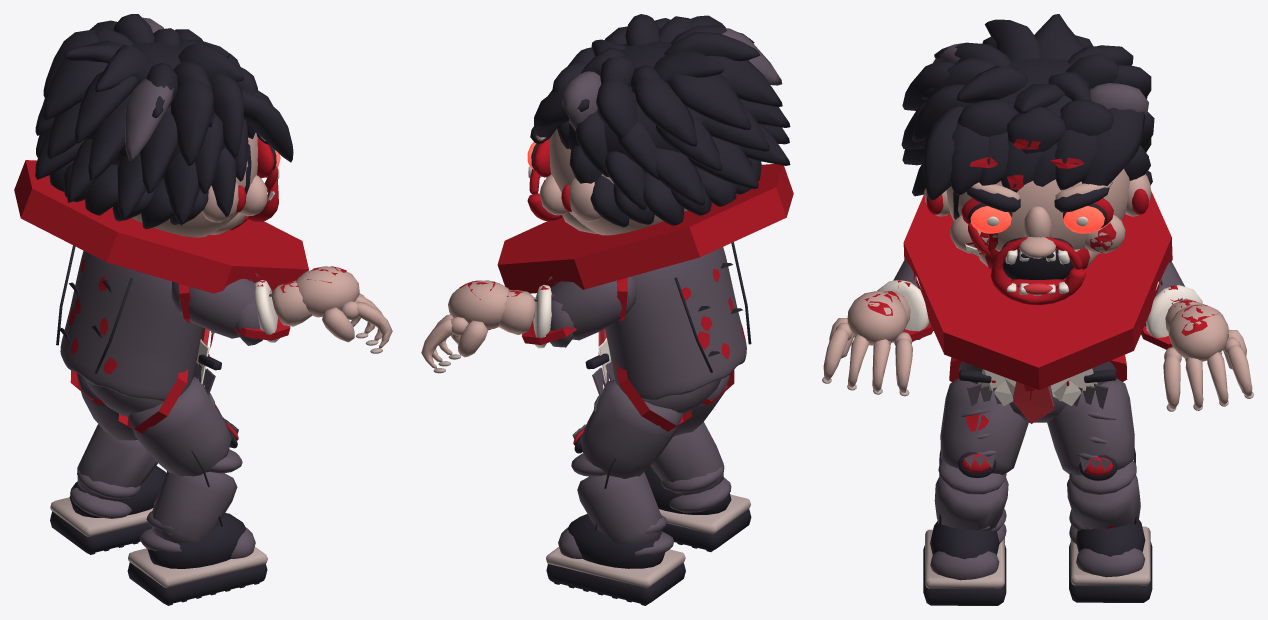
File: inf.common-worker.glb
3 renders of one model, left to right at view 1: azimuth 30°, elevation 25°; view 2: azimuth 150°, elevation 25°; view 3: azimuth 270°, elevation 25°, orthographic. The views are drawn at different scales.
Parts seen in each view (by area): view 1: head, torso, stump_head, footR, legR, shinR, shinL, handR, footL, armR, foreArmR, legL (+3 smaller); view 2: head, torso, stump_head, footL, legL, shinL, shinR, handL, footR, armL, foreArmL, hip (+3 smaller); view 3: head, stump_head, footR, handL, footL, legL, legR, handR, torso, shinR, shinL, foreArmL (+1 smaller).
Part boxes in pixels (x1,y1,x2,y2): head: (35,14,293,237); torso: (56,245,221,401); stump_head: (14,160,308,293); footR: (127,513,267,605); legR: (127,377,238,526); shinR: (139,449,242,552); shinL: (70,424,157,518); handR: (296,266,392,353); footL: (50,466,166,554); armR: (171,273,259,338); foreArmR: (236,280,312,345); legL: (76,373,137,440); head: (527,14,790,235); torso: (585,242,751,400); stump_head: (497,164,793,293); footL: (546,514,685,605); legL: (572,379,682,530); shinL: (571,453,673,556); shinR: (650,422,731,512); handL: (421,280,509,373); footR: (644,466,751,551); armL: (548,276,636,340); foreArmL: (498,285,573,348); hip: (643,379,720,415); head: (901,14,1154,305); stump_head: (903,190,1172,390); footR: (923,521,1006,605); handL: (1163,304,1253,411); footL: (1069,520,1152,602); legL: (1047,378,1136,524); legR: (939,378,1028,526); handR: (822,291,912,396); torso: (958,361,1116,423); shinR: (934,460,1008,543); shinL: (1067,460,1140,544); foreArmL: (1145,284,1202,337).
Bounding box in the file's own units: 1.01 × 1.8 × 1.32.
